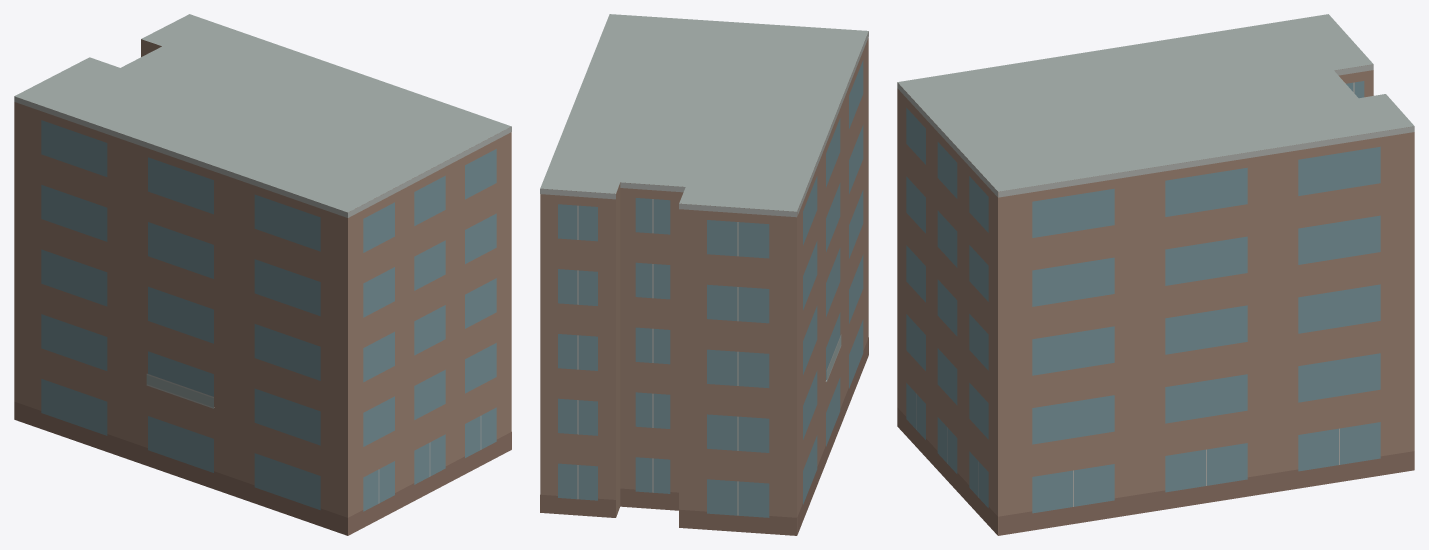
File: survey-upis-32849961.glb
The picture shows the model from 3 angles, left to right: view 1: azimuth 30°, elevation 25°; view 2: azimuth 150°, elevation 25°; view 3: azimuth 270°, elevation 25°; orthographic projection. The views are drawn at different scales.
Parts seen in each view (by area): view 1: survey-upis-32849961.tmp; view 2: survey-upis-32849961.tmp; view 3: survey-upis-32849961.tmp.
Boxes of the visible parts, x1,y1,x2,y2 form: survey-upis-32849961.tmp: [14, 14, 511, 535]; survey-upis-32849961.tmp: [540, 14, 868, 535]; survey-upis-32849961.tmp: [897, 14, 1414, 535].
Size of the model in its own units: 15.79 by 14.25 by 19.43.
